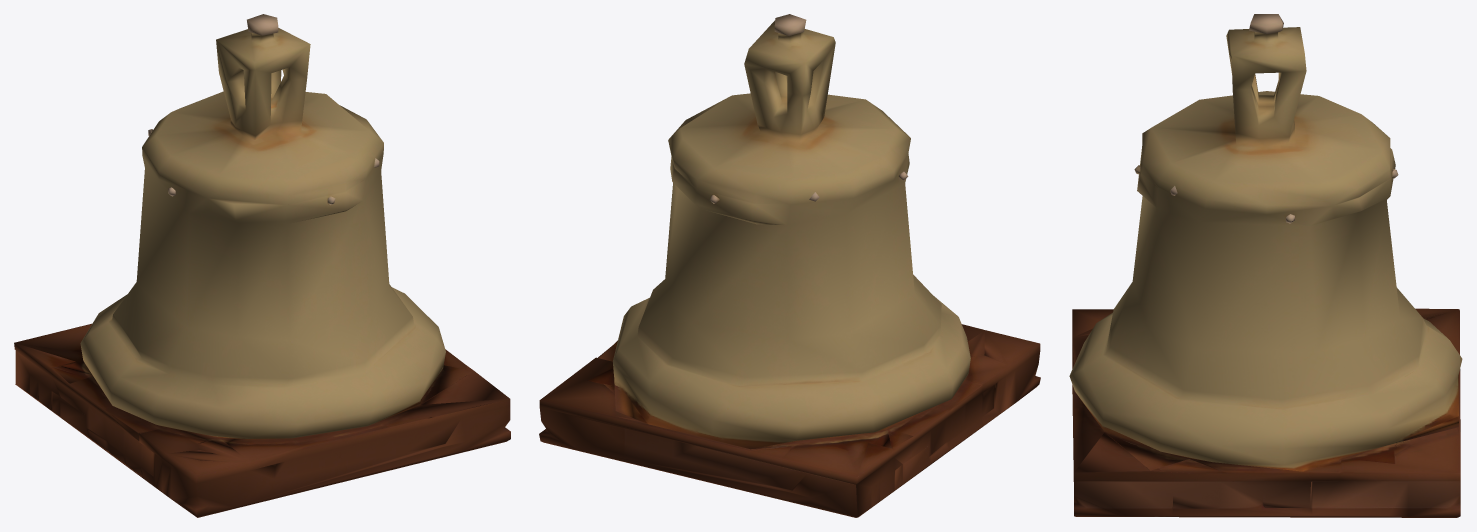
The model's file is ring_bell.glb.
The picture shows the model from 3 angles, left to right: view 1: azimuth 30°, elevation 25°; view 2: azimuth 150°, elevation 25°; view 3: azimuth 270°, elevation 25°; orthographic projection. The views are drawn at different scales.
Parts seen in each view (by area): view 1: tripo_node_2077ba3b-ee42-4a47-b7a1-9aa27232b8ca; view 2: tripo_node_2077ba3b-ee42-4a47-b7a1-9aa27232b8ca; view 3: tripo_node_2077ba3b-ee42-4a47-b7a1-9aa27232b8ca.
Part boxes in pixels (box(x1,y1,x2,y2)): tripo_node_2077ba3b-ee42-4a47-b7a1-9aa27232b8ca: box(14, 14, 510, 517); tripo_node_2077ba3b-ee42-4a47-b7a1-9aa27232b8ca: box(539, 14, 1040, 517); tripo_node_2077ba3b-ee42-4a47-b7a1-9aa27232b8ca: box(1069, 14, 1462, 517).
Size of the model in its own units: 0.8474 by 1 by 0.8532.
1 material, 1 textured.
